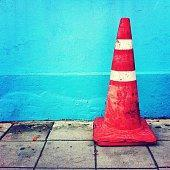Cone: (92, 17, 160, 146)
